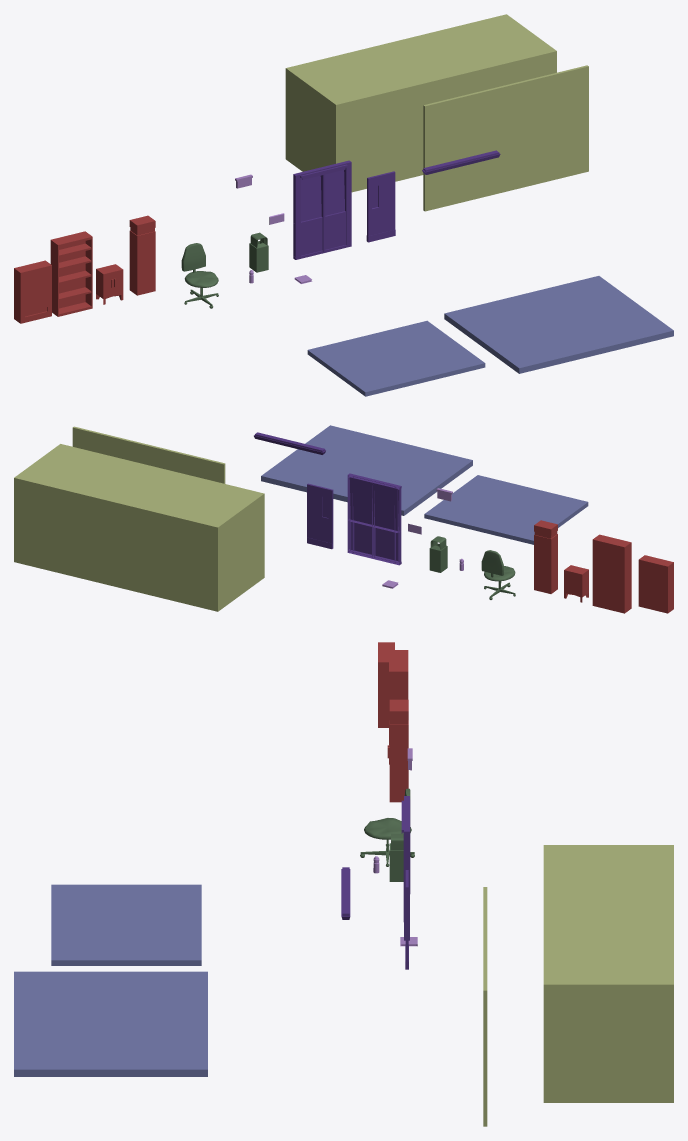
The model's file is Environment.fbx.
The picture shows the model from 3 angles, top to bottom: view 1: azimuth 30°, elevation 25°; view 2: azimuth 150°, elevation 25°; view 3: azimuth 270°, elevation 25°; orthographic projection. The views are drawn at different scales.
Visible parts, largest first — view 1: pCube1, Wall, Floor2, Floor1, Window, Shelf, Vending_machine, Locker, Door, Chair1, Cupboard, Bin (+1 smaller); view 2: pCube1, Floor2, Floor1, Window, Wall, Shelf, Vending_machine, Locker, Door, Chair1, Cupboard, Bin (+1 smaller); view 3: pCube1, Floor2, Floor1, Locker, Wall, Shelf, Window, Vending_machine, Chair1, Bin.
Part boxes in pixels (x1,y1,x2,y2): pCube1: (285, 14, 556, 192); Wall: (423, 65, 588, 211); Floor2: (444, 276, 673, 373); Floor1: (307, 320, 485, 396); Window: (293, 160, 351, 259); Shelf: (50, 231, 92, 316); Vending_machine: (14, 260, 51, 323); Locker: (129, 215, 155, 295); Door: (366, 171, 395, 242); Chair1: (181, 243, 218, 308); Cupboard: (96, 264, 123, 304); Bin: (249, 232, 268, 272); pCube1: (14, 444, 264, 611); Floor2: (261, 425, 472, 515); Floor1: (424, 475, 588, 544); Window: (347, 473, 401, 565); Wall: (72, 426, 225, 483); Shelf: (592, 534, 631, 613); Vending_machine: (638, 555, 673, 613); Locker: (534, 520, 557, 593); Door: (307, 483, 333, 549); Chair1: (481, 550, 515, 599); Cupboard: (564, 565, 588, 602); Bin: (429, 536, 447, 572); pCube1: (543, 845, 673, 1102); Floor2: (14, 971, 207, 1076); Floor1: (51, 884, 201, 965); Locker: (389, 699, 408, 802); Wall: (483, 887, 487, 1126); Shelf: (389, 650, 408, 764); Window: (401, 796, 410, 940); Vending_machine: (378, 642, 394, 727); Chair1: (360, 788, 414, 866); Bin: (389, 833, 403, 881).
Bounding box in the file's own units: 53.29 × 9.82 × 38.63.
